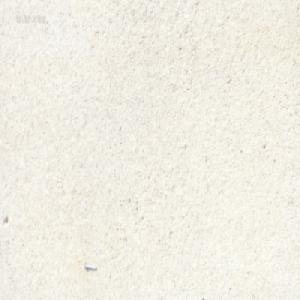Nail: (83, 261, 98, 271)
